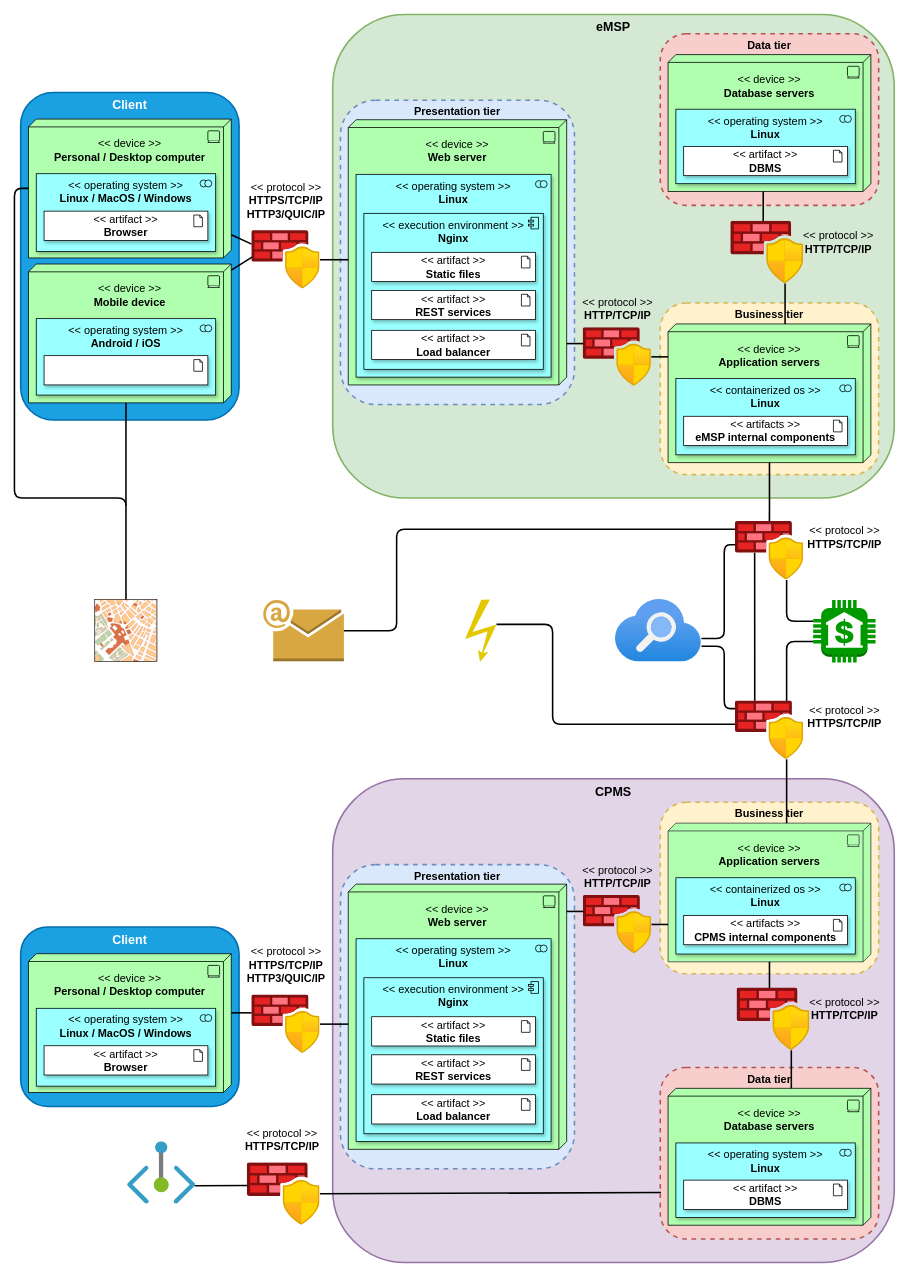
Some shapes in this 908 by 1276 pixel diagram are drawn without their labels. Here are the shapes that lost their labels. From the top down, the centre of each, then its label:
At point (126, 371): "<< artifact >> Application".
At point (125, 630): "OpenStreetMap".
At point (303, 630): "EmailService".
At point (480, 630): "DSO".
At point (658, 630): "eRoaming".
At point (844, 630): "PaymentService".
At point (161, 1172): "Station's sensors".
